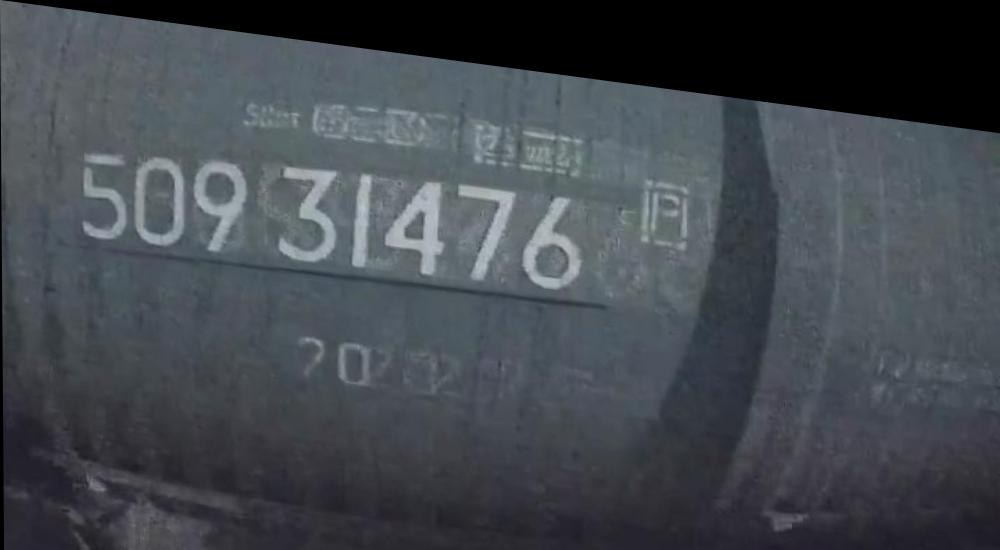Wagon-number: (76, 122, 593, 290)
